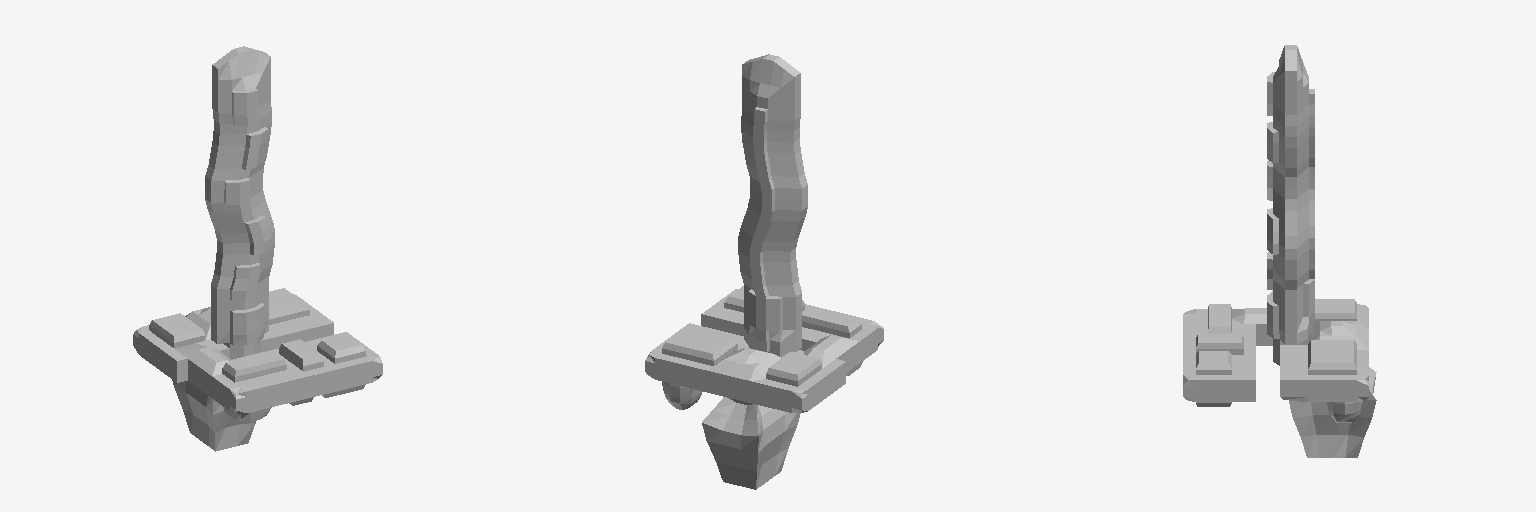
Rendered from drfrank-tower.obj.
The picture shows the model from 3 angles: view 1: azimuth 30°, elevation 25°; view 2: azimuth 150°, elevation 25°; view 3: azimuth 270°, elevation 25°; orthographic projection.
Parts seen in each view (by area): view 1: Cube.015; view 2: Cube.015; view 3: Cube.015.
Boxes of the visible parts, x1,y1,x2,y2 form: Cube.015: [133, 46, 382, 451]; Cube.015: [645, 54, 883, 489]; Cube.015: [1183, 45, 1376, 457].
Size of the model in its own units: 30 by 74.58 by 31.93.